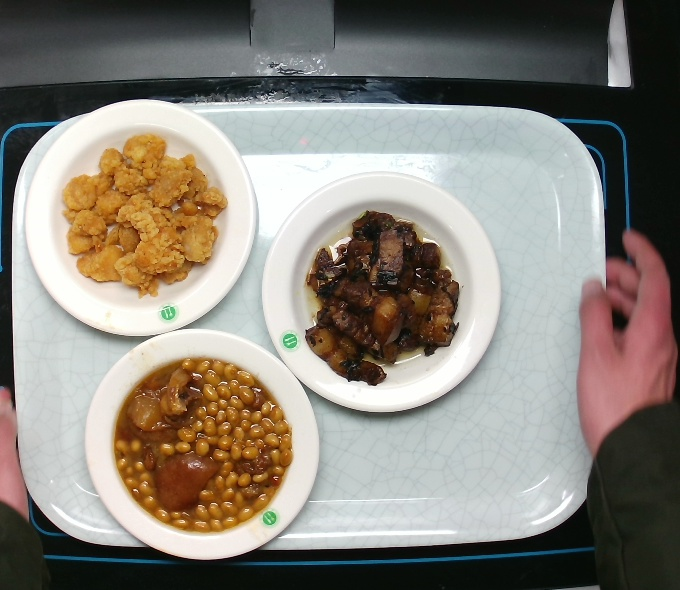wcq-GanCaiRou: (296, 205, 466, 388)
wcq-HuangDouZhuJiao: (107, 353, 295, 537)
wcq-JiMiHua: (53, 127, 229, 300)
